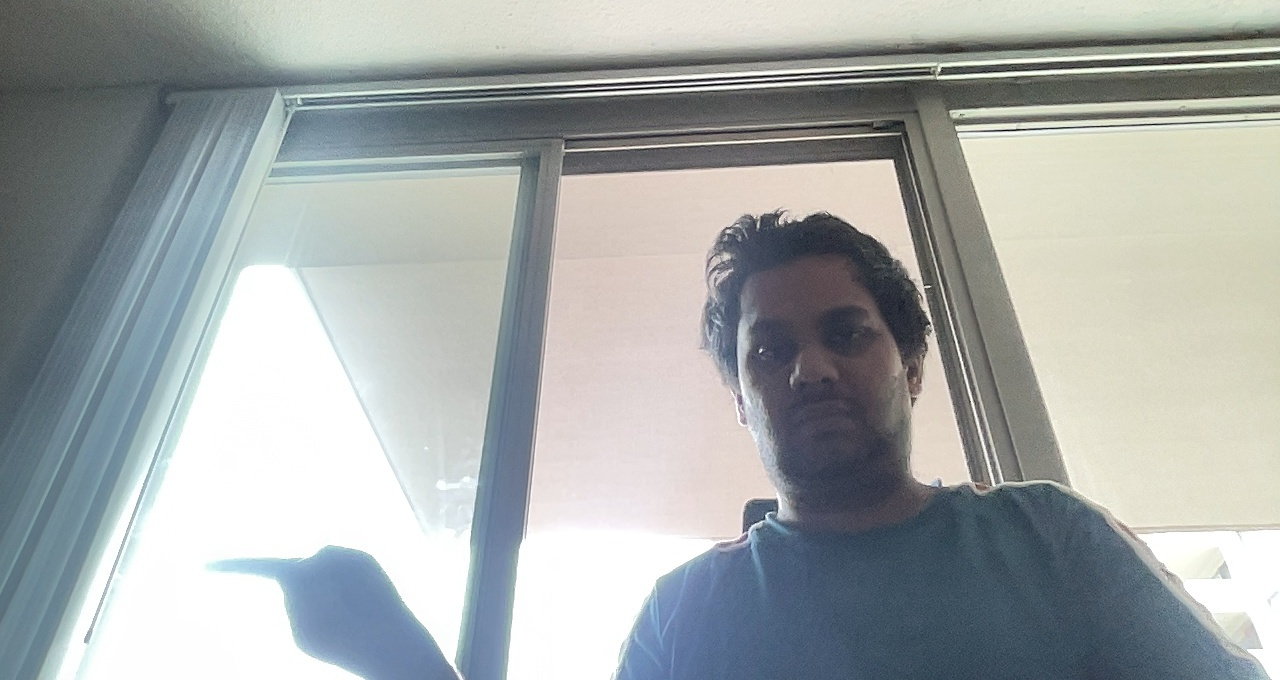fingerright: (194, 540, 428, 674)
